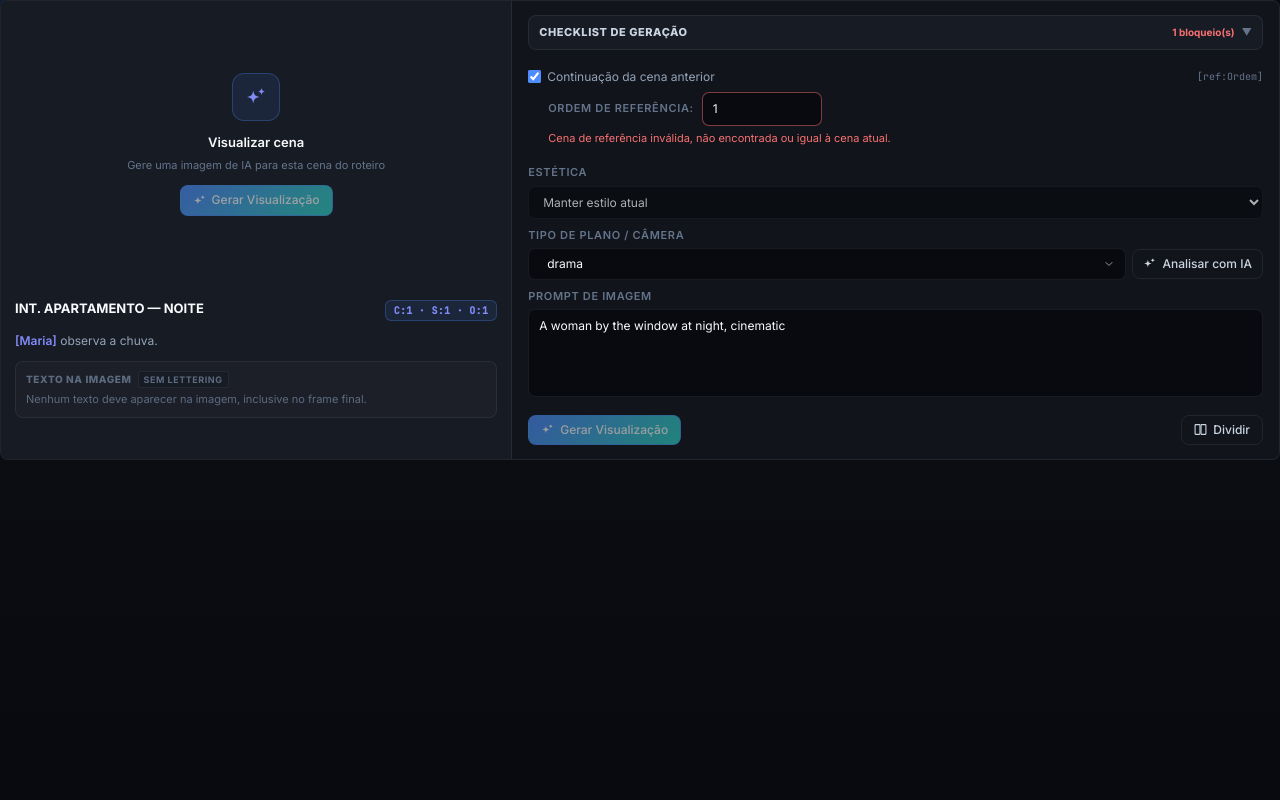
Test: SceneCard (render) › mostra no checklist uma continuidade que aponta para a própria cena
Click the button "Checklist de geração 1 bloqueio(s) ▼": {"x": 613, "y": 32} [529,16,1262,48]
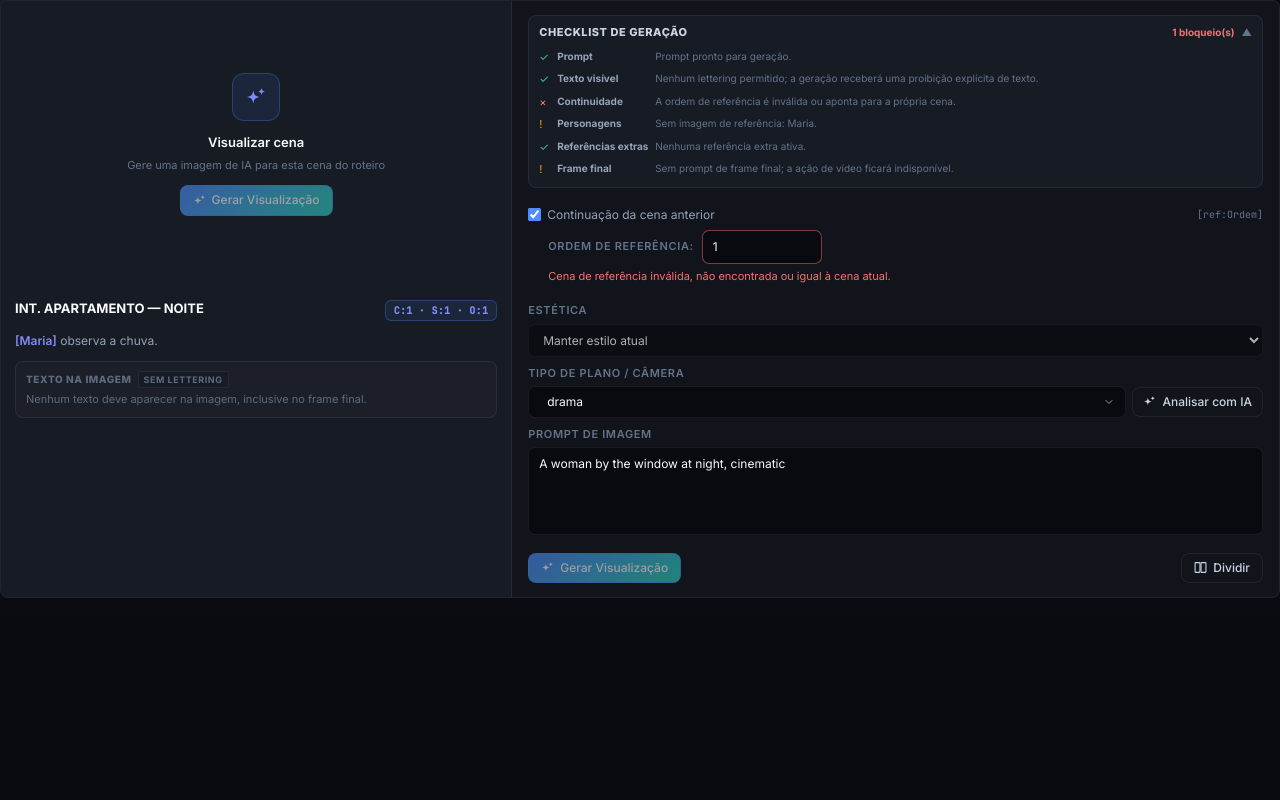
Result: the text "aponta para a própria cena" is shown at [655,94,956,106]
